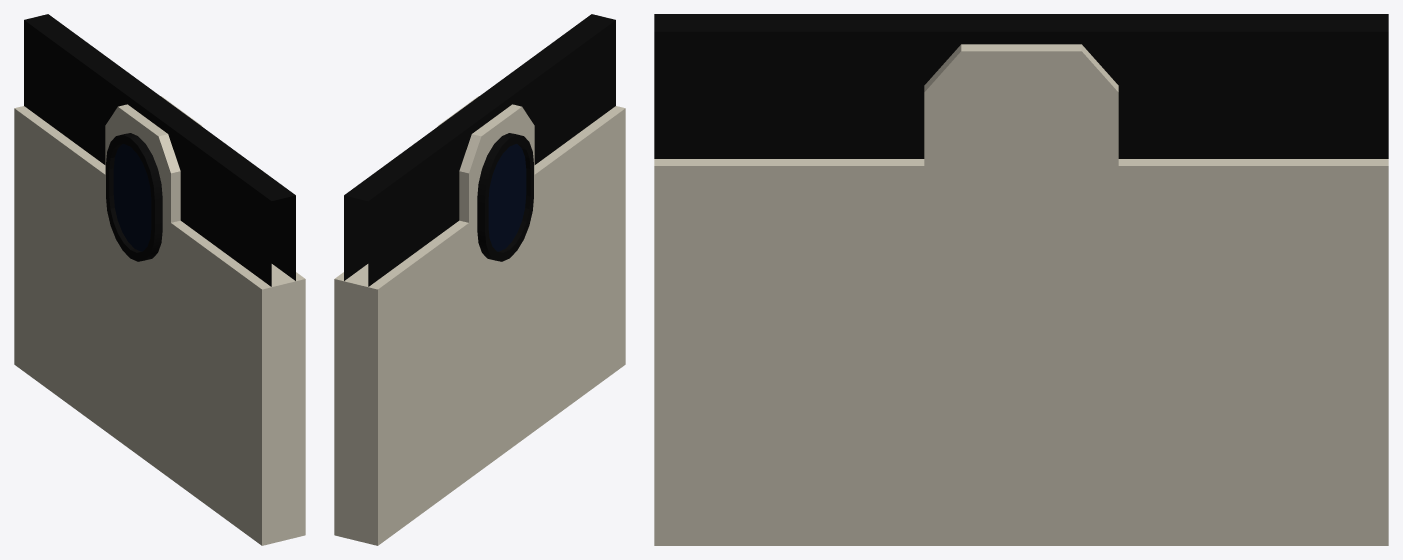
File: OV Door Bot.fbx
The picture shows the model from 3 angles, left to right: view 1: azimuth 30°, elevation 25°; view 2: azimuth 150°, elevation 25°; view 3: azimuth 270°, elevation 25°; orthographic projection. The views are drawn at different scales.
Parts seen in each view (by area): view 1: pCube169; view 2: pCube169; view 3: pCube169.
Part boxes in pixels (x1,y1,x2,y2): pCube169: [14, 14, 305, 545]; pCube169: [334, 14, 625, 545]; pCube169: [654, 14, 1388, 545].
Size of the model in its own units: 19.35 by 123 by 162.
